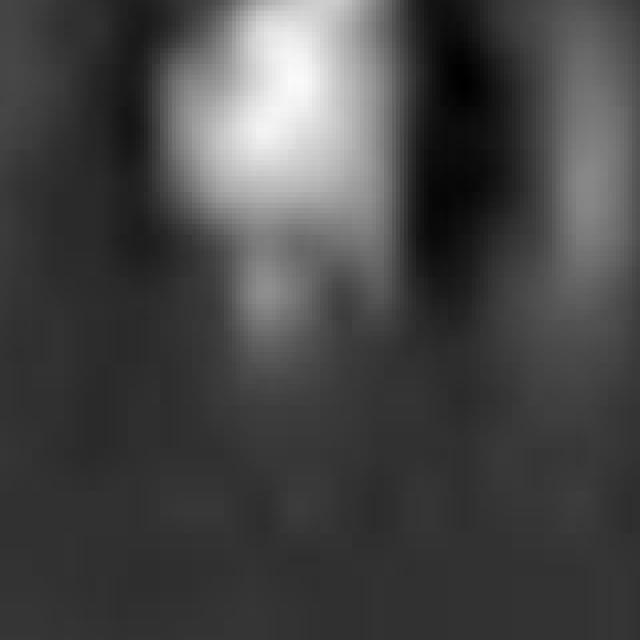person: (149, 1, 425, 374), (489, 1, 640, 449)
